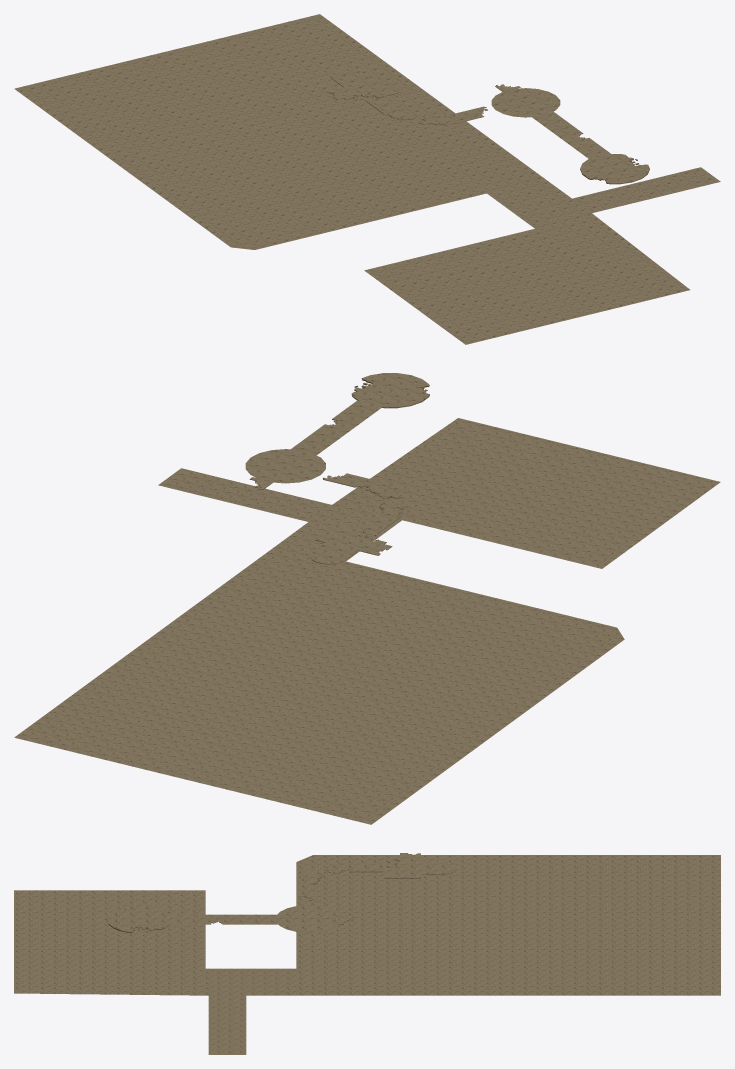
File: bfcs_05.FBX
The picture shows the model from 3 angles, top to bottom: view 1: azimuth 30°, elevation 25°; view 2: azimuth 150°, elevation 25°; view 3: azimuth 270°, elevation 25°; orthographic projection. The views are drawn at different scales.
Parts seen in each view (by area): view 1: bfcs_05; view 2: bfcs_05; view 3: bfcs_05.
Part boxes in pixels (left/top/right/bottom): bfcs_05: left=14, top=14, right=720, bottom=344; bfcs_05: left=14, top=373, right=720, bottom=824; bfcs_05: left=14, top=853, right=720, bottom=1054.
Size of the model in its own units: 3758 by 641 by 5620.
